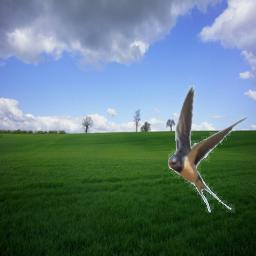Swallow: (168, 85, 250, 215)
